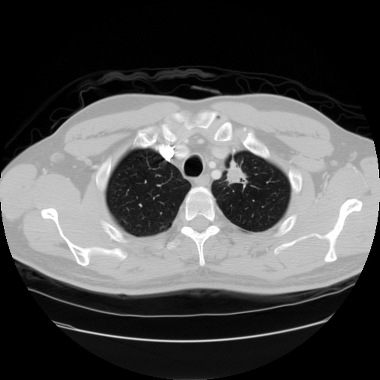nodule: (224, 163, 248, 187)
